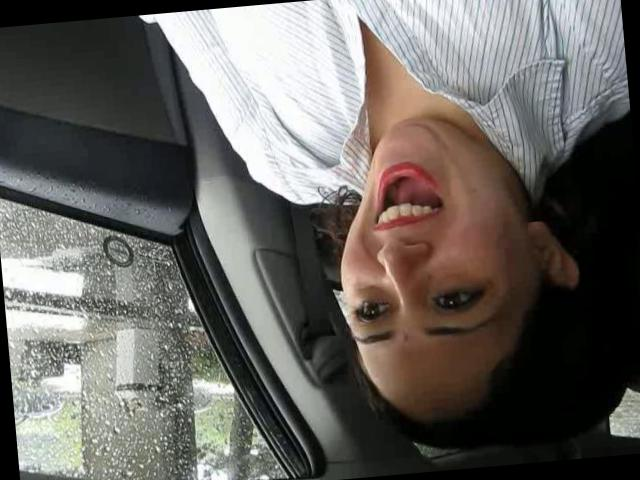eye_open: (422, 277, 493, 323), (347, 291, 397, 329)
face: (320, 107, 526, 390)
mouth_open: (362, 156, 454, 236)
